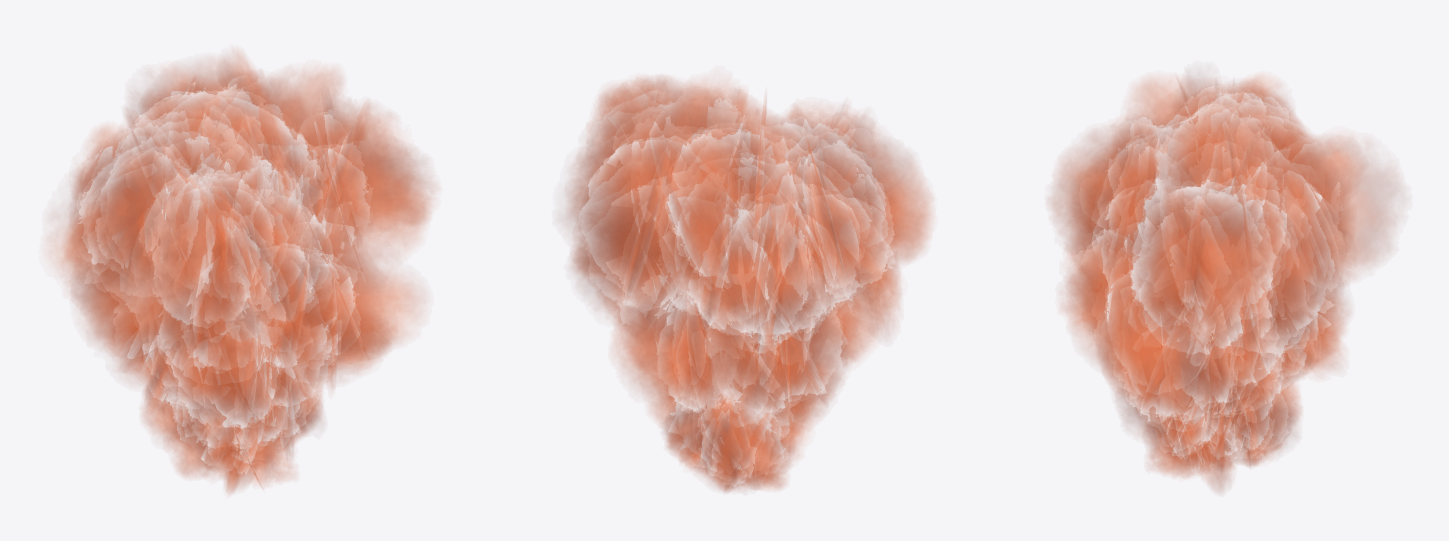
The model's file is vent_glow.glb.
The picture shows the model from 3 angles, left to right: view 1: azimuth 30°, elevation 25°; view 2: azimuth 150°, elevation 25°; view 3: azimuth 270°, elevation 25°; orthographic projection. The views are drawn at different scales.
Bounding box in the file's own units: 50.82 × 56.89 × 48.81.
1 material, 1 textured.
